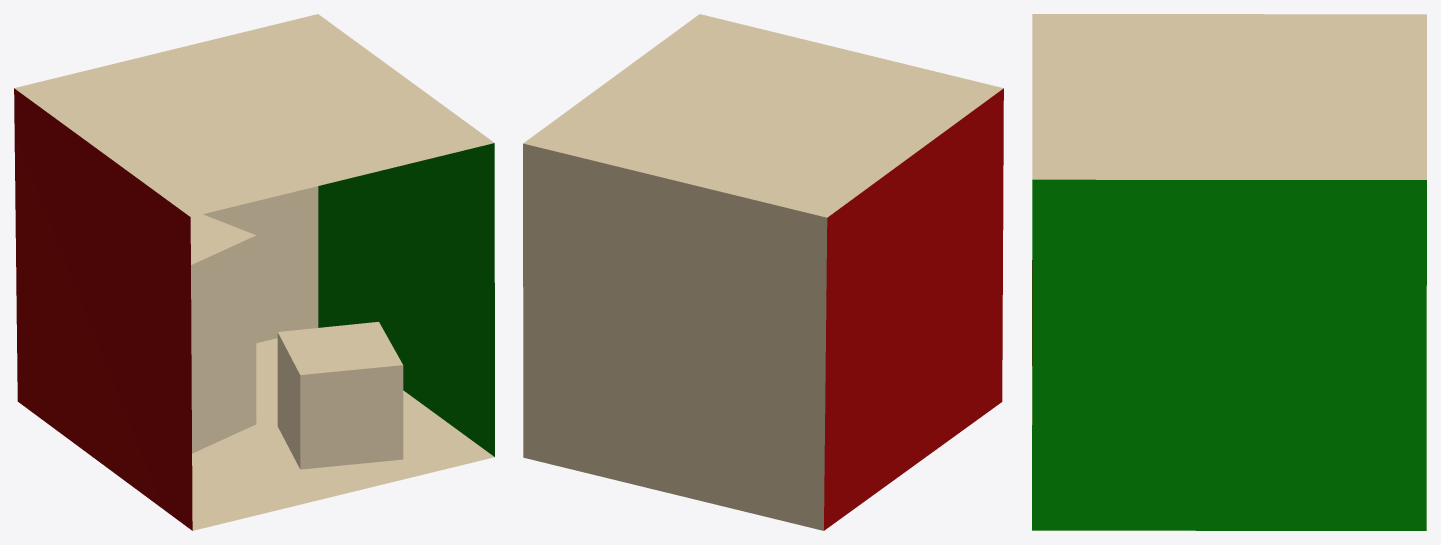
The model's file is cornell.gltf.
3 renders of one model, left to right at view 1: azimuth 30°, elevation 25°; view 2: azimuth 150°, elevation 25°; view 3: azimuth 270°, elevation 25°, orthographic. The views are drawn at different scales.
Visible parts, largest first — view 1: left_wall, ceiling, right_wall, floor, short_box, tall_box, back_wall; view 2: back_wall, left_wall, ceiling; view 3: right_wall, ceiling.
Part boxes in pixels (bbox=[...]): left_wall: bbox=[14, 88, 192, 530]; ceiling: bbox=[14, 14, 494, 216]; right_wall: bbox=[318, 143, 494, 456]; floor: bbox=[192, 338, 494, 530]; short_box: bbox=[277, 322, 403, 469]; tall_box: bbox=[190, 214, 256, 453]; back_wall: bbox=[203, 186, 318, 343]; back_wall: bbox=[523, 143, 827, 530]; left_wall: bbox=[824, 88, 1003, 530]; ceiling: bbox=[523, 14, 1003, 217]; right_wall: bbox=[1032, 179, 1426, 530]; ceiling: bbox=[1032, 14, 1426, 179].
Bounding box in the file's own units: 5.56 × 5.49 × 5.6.
